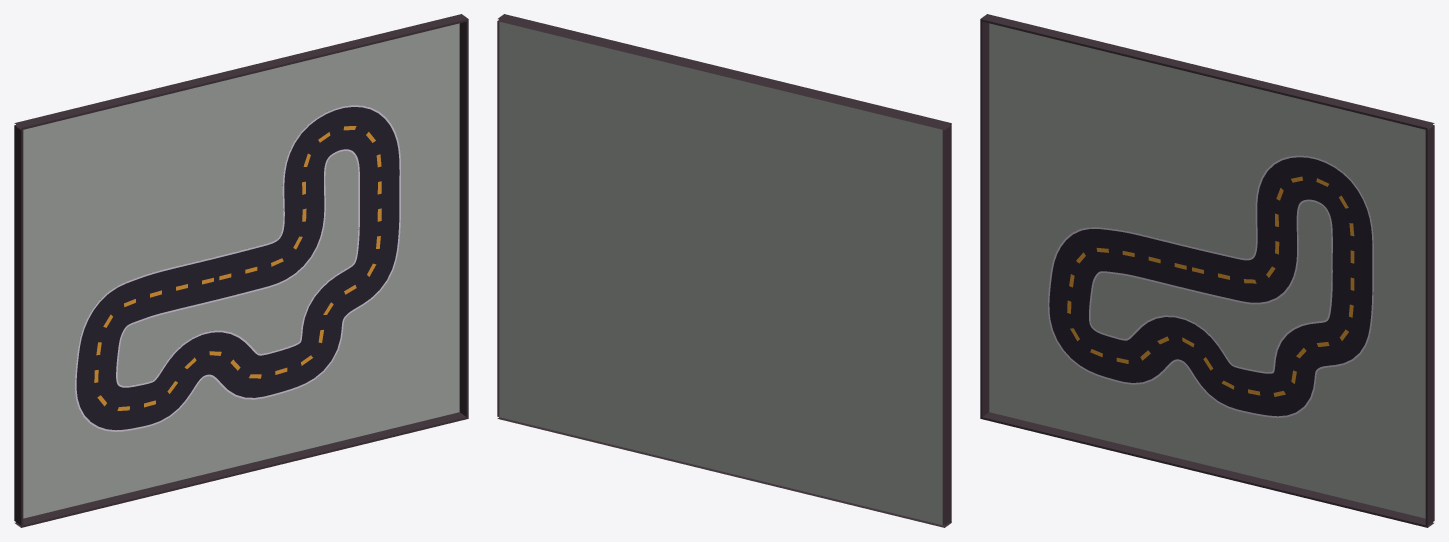
Rendered from track.obj.
3 renders of one model, left to right at view 1: azimuth 30°, elevation 25°; view 2: azimuth 150°, elevation 25°; view 3: azimuth 330°, elevation 25°, orthographic.
Bounding box in the file's own units: 11.19 × 9.55 × 0.3.
Materials: 5 (5 with a texture image).
